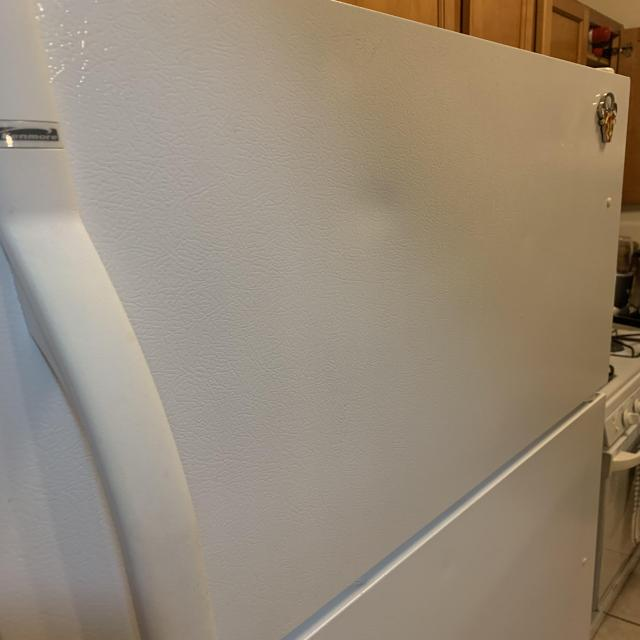dents: (312, 156, 486, 286)
